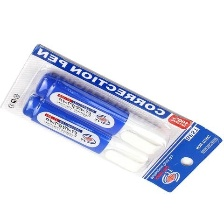book: (0, 42, 224, 193)
correction_fluid: (33, 73, 170, 157), (20, 88, 151, 173)
